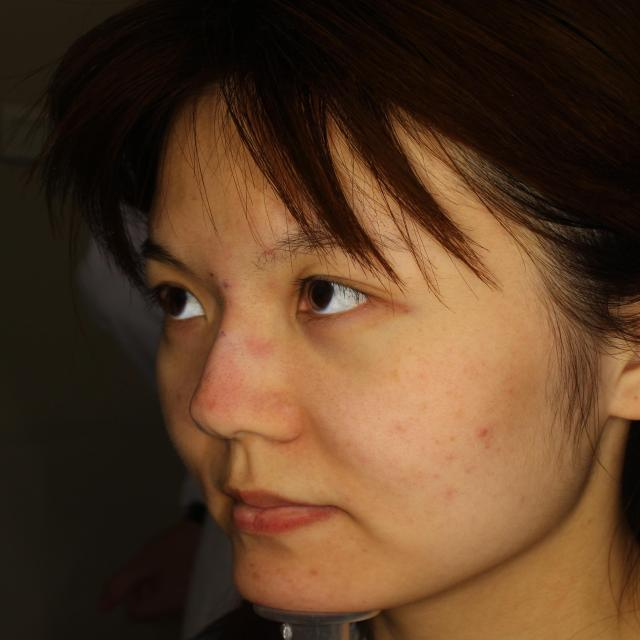acne: (469, 421, 502, 451)
